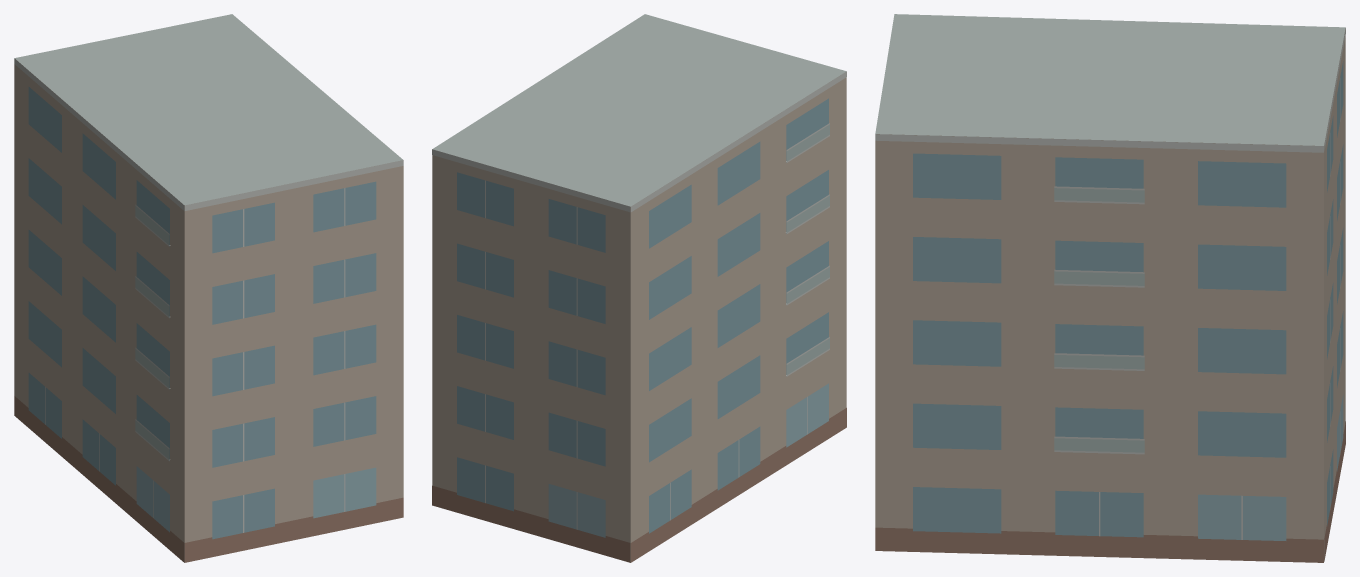
The model's file is survey-upis-32877741.glb.
3 renders of one model, left to right at view 1: azimuth 30°, elevation 25°; view 2: azimuth 150°, elevation 25°; view 3: azimuth 270°, elevation 25°, orthographic. The views are drawn at different scales.
Visible parts, largest first — view 1: survey-upis-32877741.tmp; view 2: survey-upis-32877741.tmp; view 3: survey-upis-32877741.tmp.
Part boxes in pixels (<box>): survey-upis-32877741.tmp: <box>14,14,403,562</box>; survey-upis-32877741.tmp: <box>432,14,846,562</box>; survey-upis-32877741.tmp: <box>875,14,1345,562</box>.
Bounding box in the file's own units: 10.2 × 15 × 15.35.
